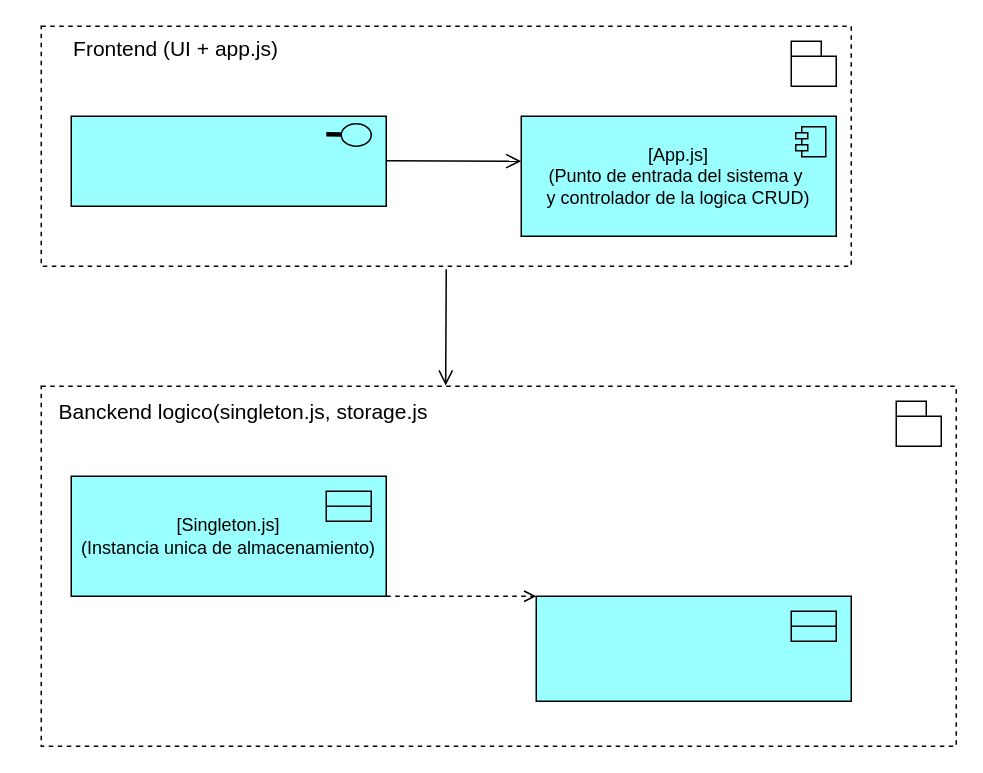
The diagram is 983 pixels wide and 773 high, and some of its shapes have lost their labels. Each missing label, with the box of its shape:
[Interfaz de usuario] (HTML + CSS): (70, 115, 386, 206)
[Storage.js] (Gestion de almacenamiento local): (535, 595, 851, 701)
